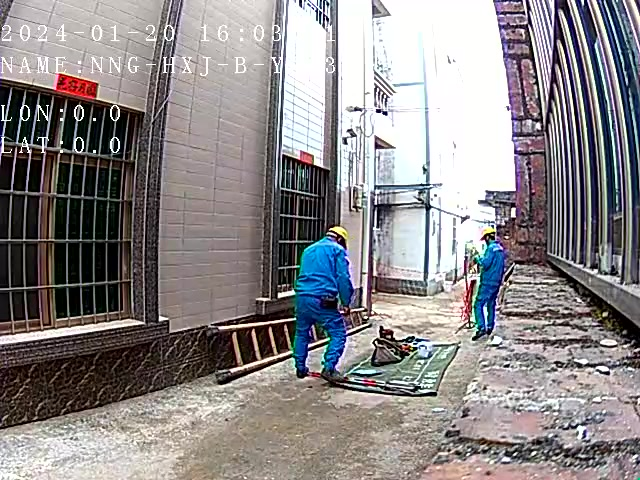halt: (328, 228, 352, 252), (483, 230, 499, 247)
